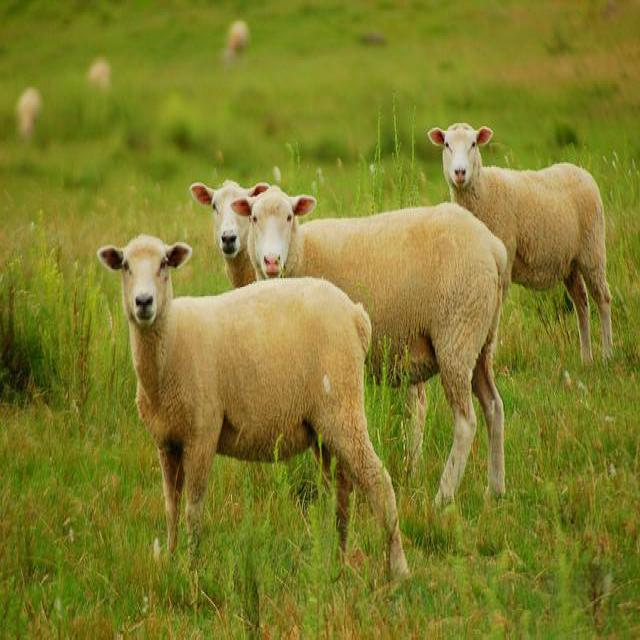Sheep: (97, 236, 409, 581), (251, 185, 508, 508), (431, 123, 621, 367), (192, 182, 270, 293)
